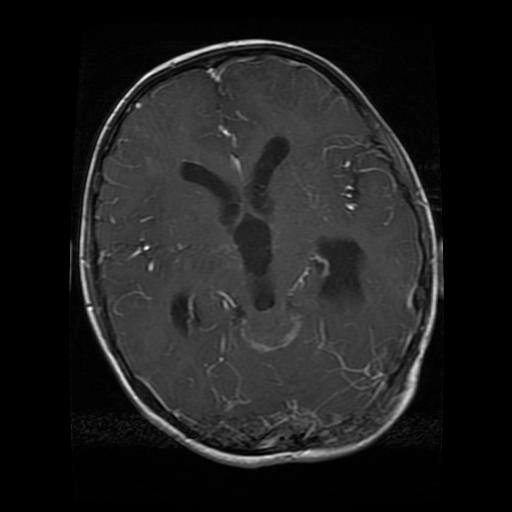Tumour-Glioma: (297, 376, 416, 444)
